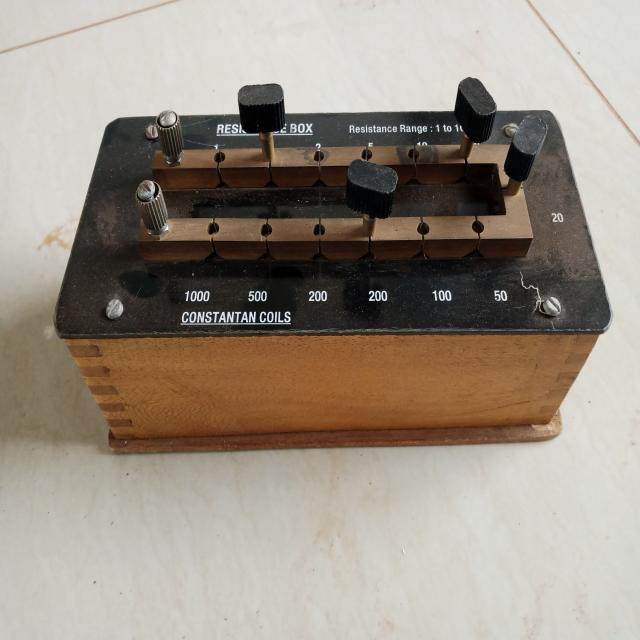Pinned Resistance Box: (38, 85, 628, 464)
